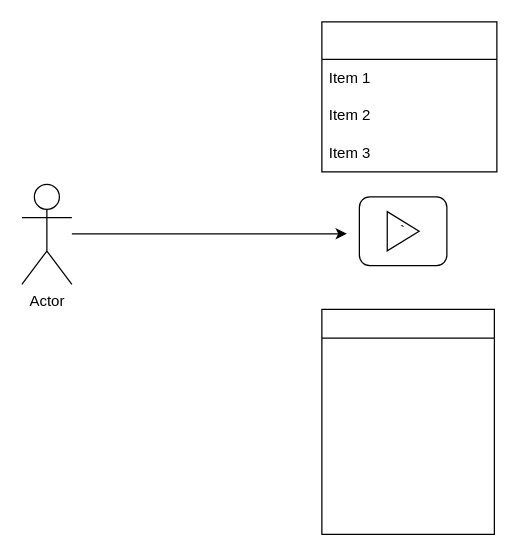
Image size: 519x556. Some labels were removed from this diagram. Here are the shapes that lost their labels. From the top down, the box of each, then its label:
(321, 21, 497, 172): List
(321, 308, 494, 534): Vertical Container
